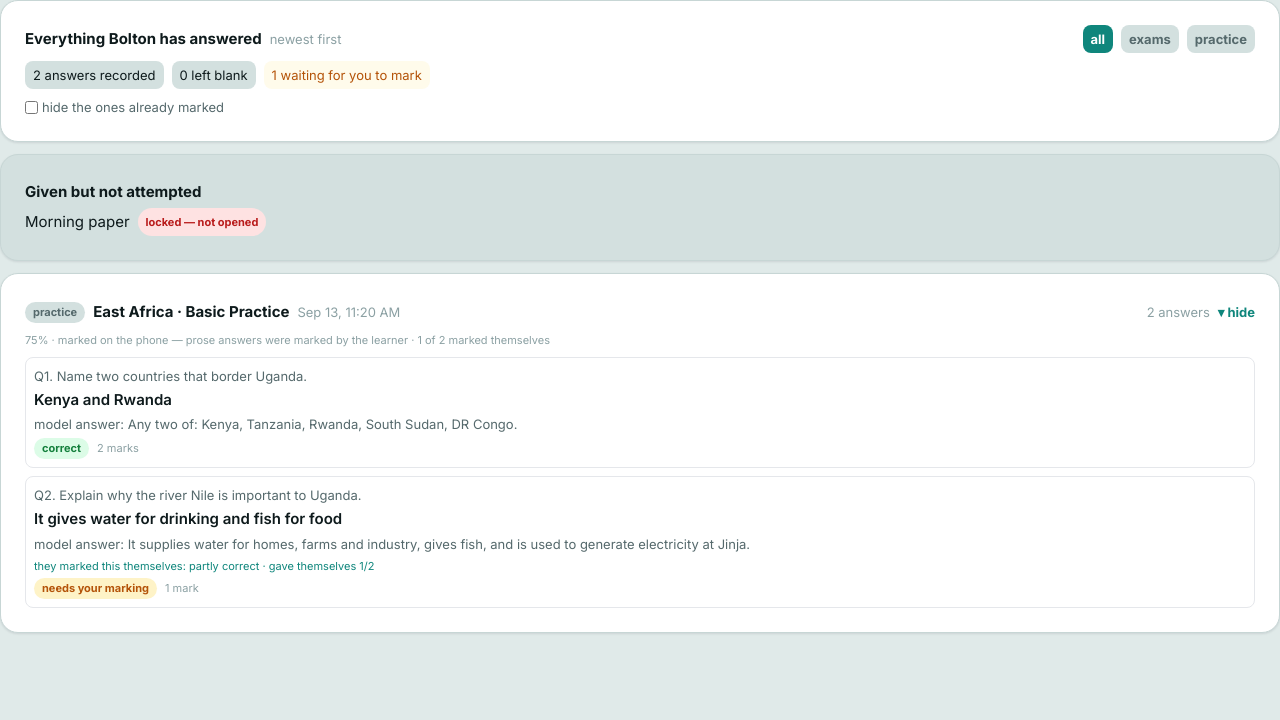
Test: StudentAnswers · practice runs › appears under the practice filter and not under exams
Expected: the text "Everything Bolton has answered" is shown, left=25, top=27, right=262, bottom=51
Click the button "exams" at (1150, 39), box left=1121, top=25, right=1179, bottom=53
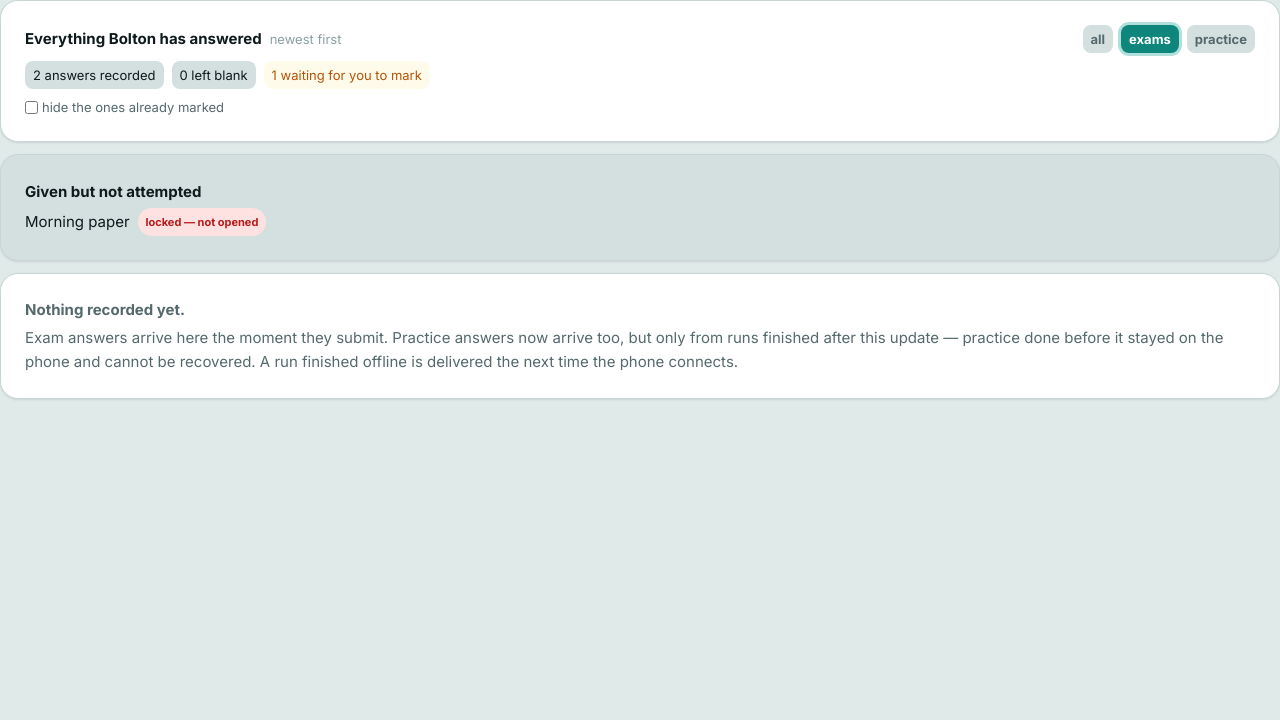
Now the text "Nothing recorded yet." is shown, box left=25, top=300, right=185, bottom=319
Click the button "practice" at (1221, 39), box left=1187, top=25, right=1255, bottom=53
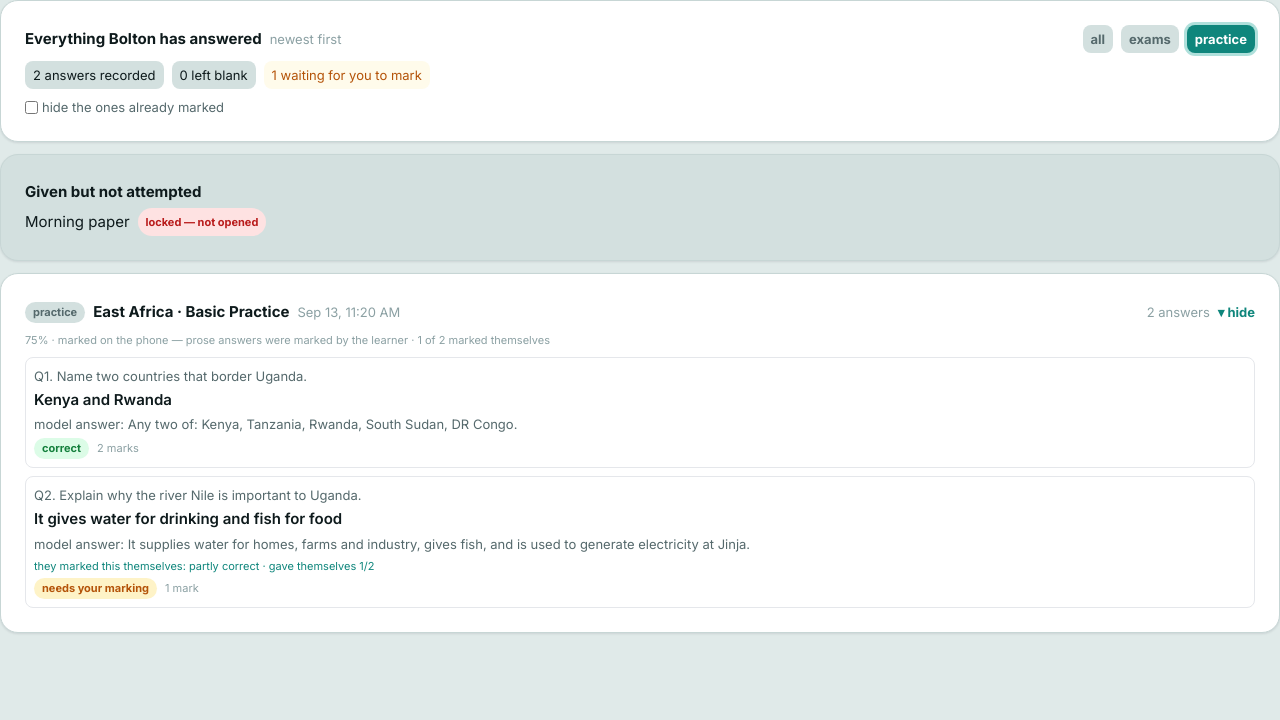
Now the text "Q1. Name two countries that border Uganda." is shown, box left=34, top=368, right=307, bottom=384
